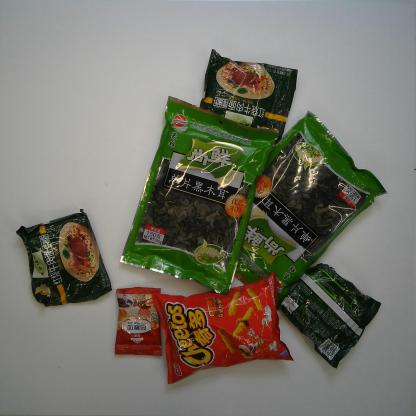Dried Food: (119, 94, 280, 296), (234, 110, 389, 311)
Instant Drink: (113, 286, 162, 357)
Instant Noodles: (278, 261, 382, 369), (199, 48, 299, 146), (15, 208, 113, 308)
Puffed Food: (152, 271, 296, 386)
